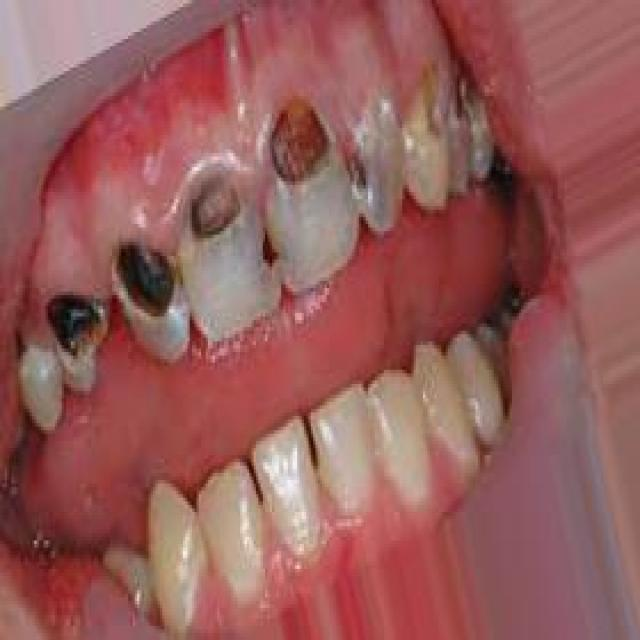caries: (46, 277, 115, 400), (109, 233, 190, 336), (179, 162, 252, 266), (259, 90, 330, 190), (404, 65, 453, 152), (340, 140, 383, 215), (245, 214, 288, 287)
